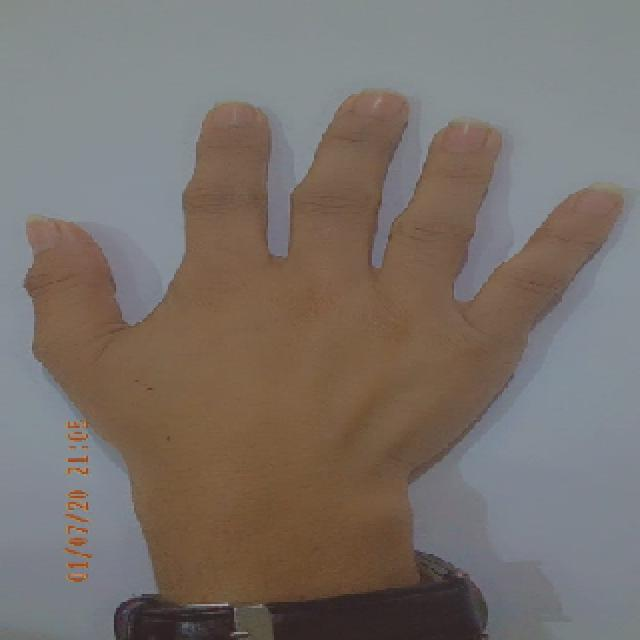Nail: (355, 91, 407, 122), (442, 121, 492, 152), (571, 186, 618, 218), (28, 216, 60, 254), (214, 102, 258, 126)
